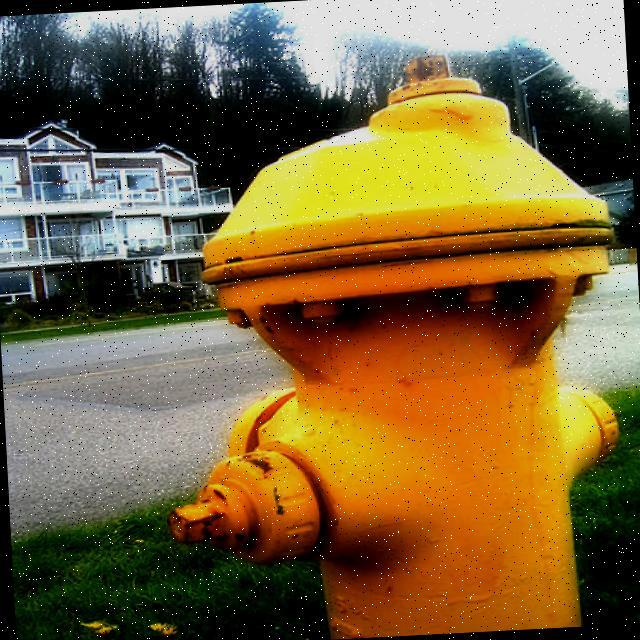fire_hydrant: (145, 38, 632, 636)
